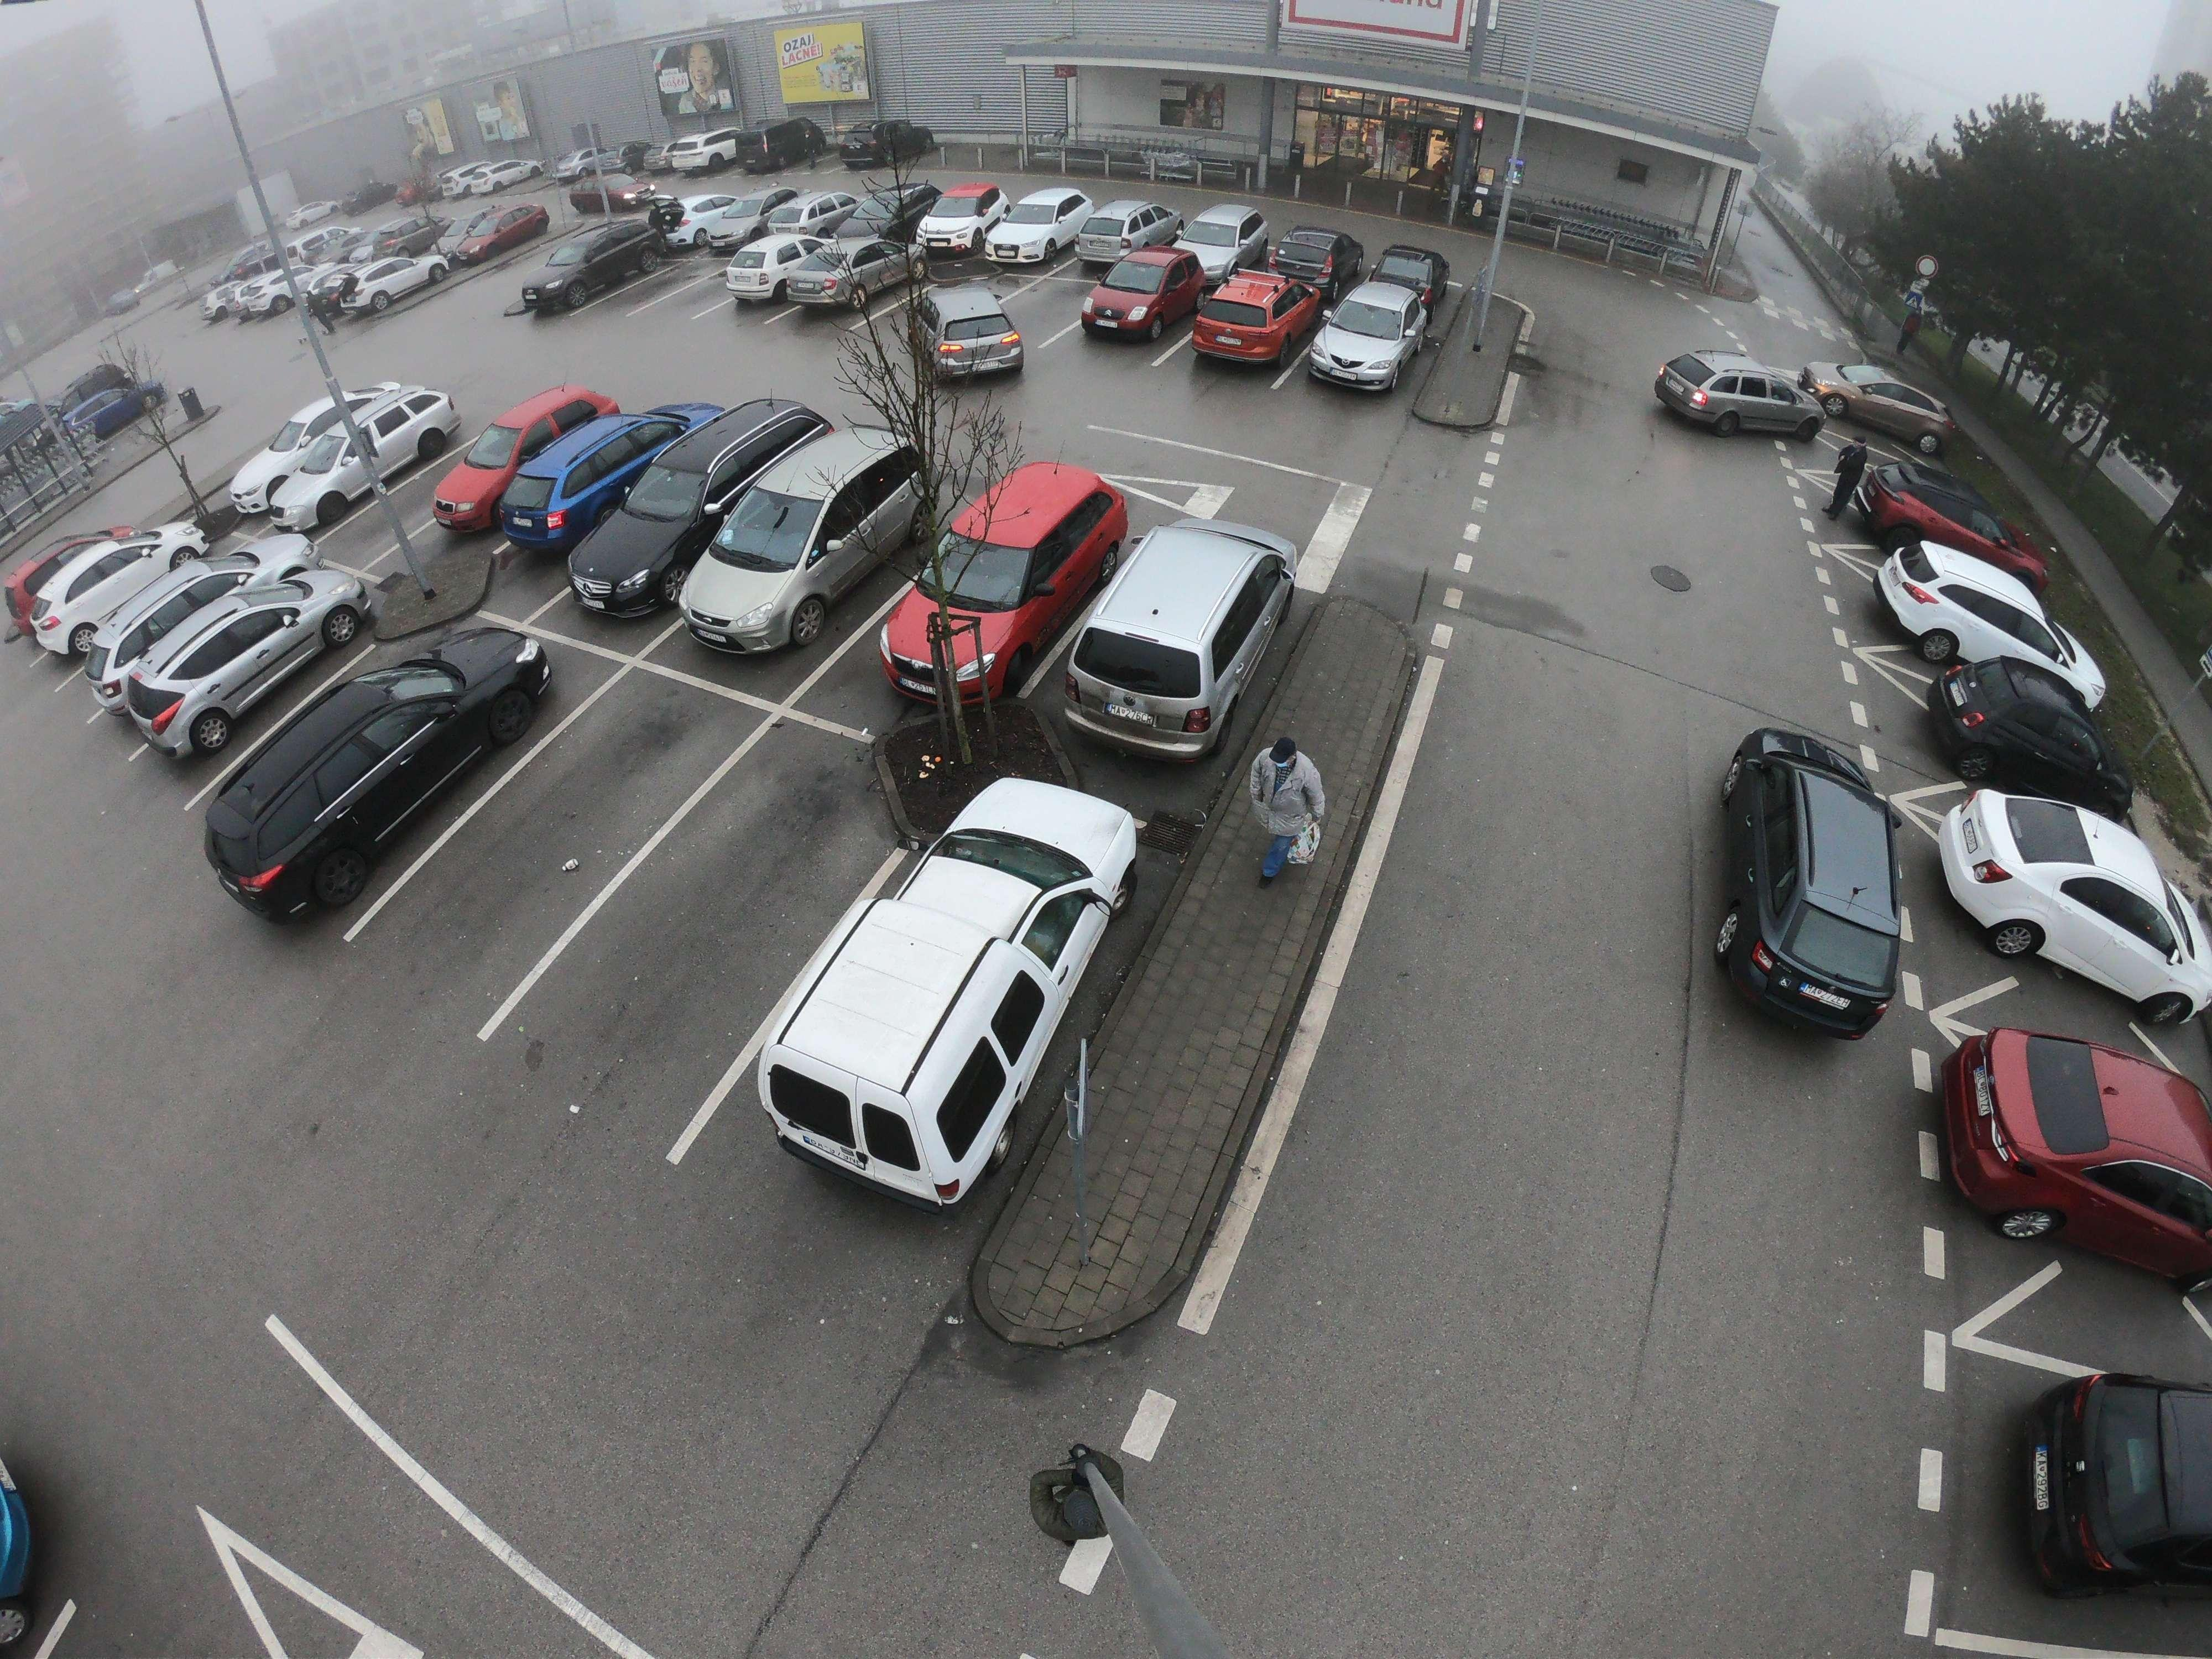empty: (730, 791, 1151, 1227), (228, 629, 535, 892), (1928, 1012, 2207, 1290), (1930, 784, 2198, 1011), (1714, 732, 1918, 1028), (679, 425, 927, 667), (1049, 516, 1285, 763), (2012, 1349, 2212, 1601), (890, 471, 1113, 697), (124, 563, 347, 755), (603, 401, 805, 594), (462, 389, 672, 545), (233, 378, 442, 528), (1932, 660, 2125, 821), (37, 525, 228, 667), (1883, 547, 2076, 662), (1653, 345, 1834, 457), (1312, 258, 1451, 403), (1195, 261, 1327, 375), (524, 214, 665, 314), (909, 281, 1040, 385), (1071, 256, 1198, 352), (784, 227, 907, 312), (986, 186, 1096, 265), (732, 232, 833, 310), (914, 183, 1012, 258), (352, 256, 460, 322), (681, 185, 780, 254), (444, 199, 547, 263), (1172, 206, 1268, 270), (843, 179, 935, 246), (1082, 199, 1172, 254), (768, 185, 862, 235), (219, 268, 296, 328)
occupied: (648, 850, 822, 981), (491, 775, 624, 878), (357, 462, 456, 537), (650, 260, 725, 322)
